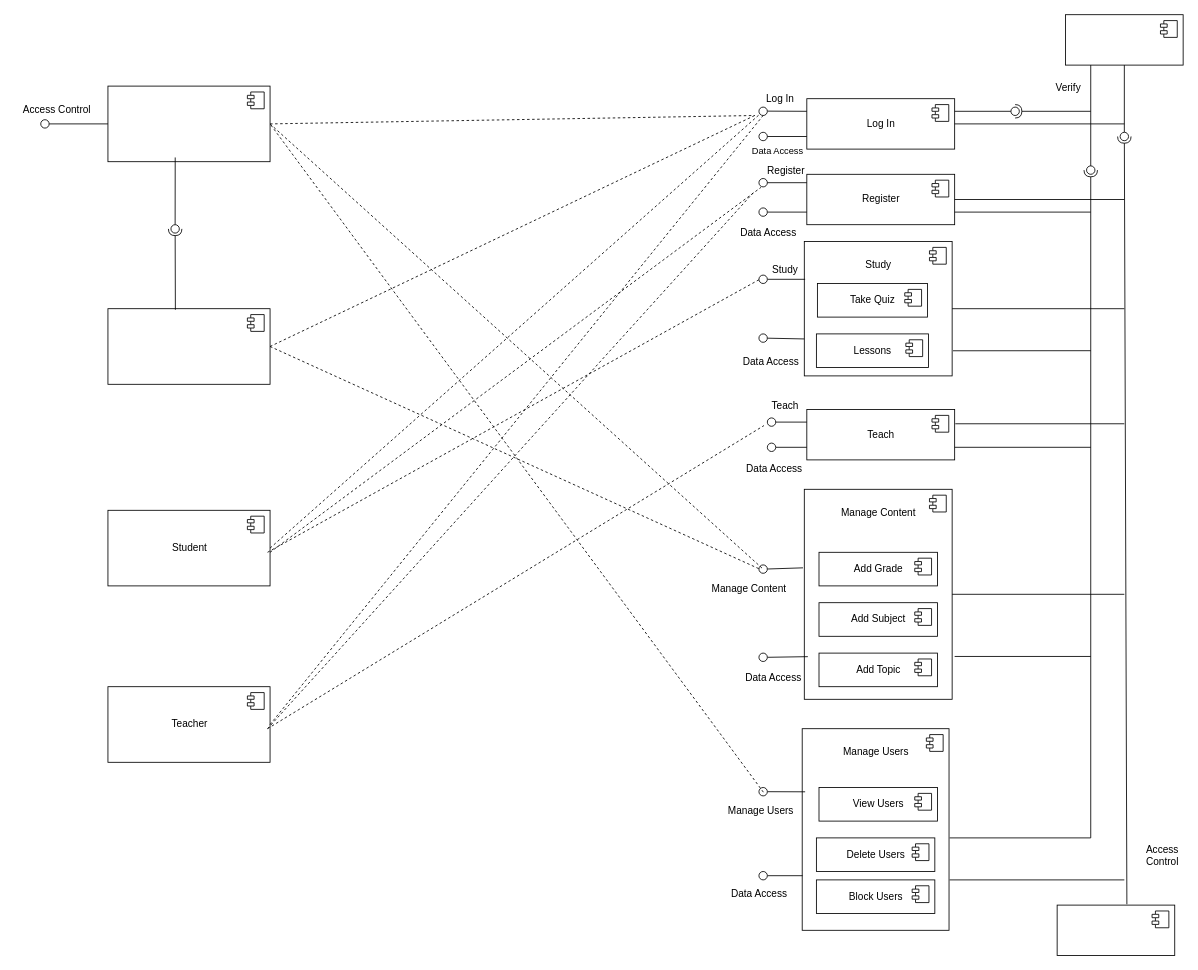
This 1198x970 diagram has some shape labels left out. Here are the shapes that lost their labels. From the top down, the centre of each, then its label:
At (1124,39): "Authentication".
At (188,123): "Admin".
At (188,346): "Content Manager".
At (1115,930): "Database".
